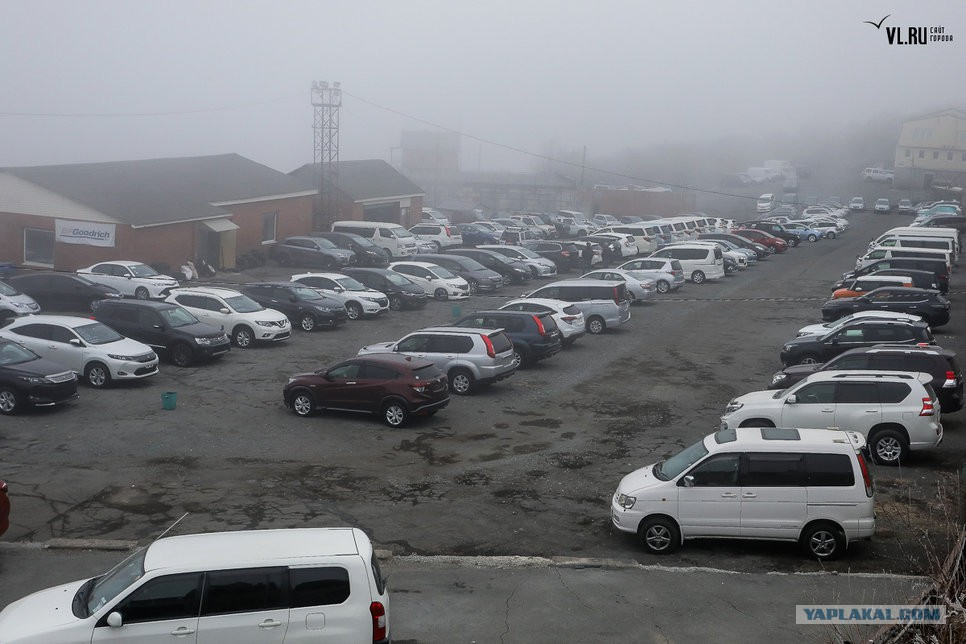Car: (0, 527, 392, 644), (610, 428, 876, 561), (720, 369, 944, 466), (768, 343, 966, 413), (282, 353, 451, 428), (0, 314, 160, 388), (357, 326, 517, 394), (89, 299, 231, 366), (164, 286, 292, 348), (780, 317, 938, 367), (436, 308, 562, 368), (0, 338, 80, 415), (519, 280, 632, 334), (237, 282, 348, 332), (821, 287, 952, 329), (287, 271, 391, 320), (3, 271, 124, 312), (497, 297, 586, 348), (73, 260, 181, 300), (840, 257, 951, 295), (339, 267, 428, 310), (411, 253, 504, 293), (330, 220, 419, 261), (796, 310, 925, 338), (854, 246, 954, 280), (387, 261, 471, 301), (444, 248, 534, 285), (270, 235, 358, 271), (877, 237, 956, 276), (304, 231, 389, 267), (648, 245, 726, 284), (578, 269, 658, 305), (475, 244, 557, 278), (616, 257, 685, 294), (587, 225, 658, 255), (831, 276, 914, 300), (698, 233, 771, 259), (869, 227, 959, 247), (684, 241, 748, 269), (408, 223, 465, 254), (0, 279, 41, 321), (521, 241, 580, 270), (743, 220, 802, 248), (694, 239, 758, 263), (865, 268, 938, 288), (732, 229, 788, 254), (918, 224, 963, 254), (572, 236, 622, 262), (620, 223, 672, 248), (635, 221, 685, 246), (510, 214, 557, 239), (911, 215, 966, 236), (592, 233, 638, 258), (648, 219, 696, 242), (658, 218, 706, 240), (527, 214, 570, 238), (454, 223, 503, 244), (491, 218, 543, 236), (499, 226, 546, 245), (781, 223, 825, 243), (555, 216, 596, 237), (571, 240, 603, 266), (914, 199, 964, 215), (673, 216, 716, 233), (804, 216, 845, 233), (0, 480, 12, 538), (409, 231, 439, 254), (808, 222, 841, 240), (764, 160, 796, 178), (912, 211, 959, 223), (590, 214, 624, 230), (422, 206, 450, 225), (762, 207, 802, 220), (861, 168, 895, 183), (931, 179, 965, 194), (917, 204, 963, 215), (916, 206, 960, 217), (814, 203, 851, 215), (803, 208, 843, 219), (807, 206, 847, 217), (748, 167, 777, 182), (720, 173, 751, 186), (831, 278, 857, 293), (756, 193, 776, 212), (735, 171, 762, 185), (559, 210, 590, 222), (908, 201, 936, 214), (472, 221, 506, 231), (723, 252, 739, 273), (780, 192, 799, 208), (817, 200, 849, 209), (762, 215, 794, 223), (897, 198, 913, 214), (874, 198, 891, 213), (848, 197, 866, 211), (714, 217, 729, 233), (725, 218, 738, 234), (916, 200, 940, 208), (621, 215, 644, 223), (639, 214, 663, 221), (683, 211, 708, 217), (837, 219, 850, 230), (787, 220, 815, 225), (559, 278, 605, 281), (955, 242, 960, 263), (867, 243, 878, 252), (675, 213, 698, 217), (737, 222, 748, 229), (908, 222, 923, 227)
